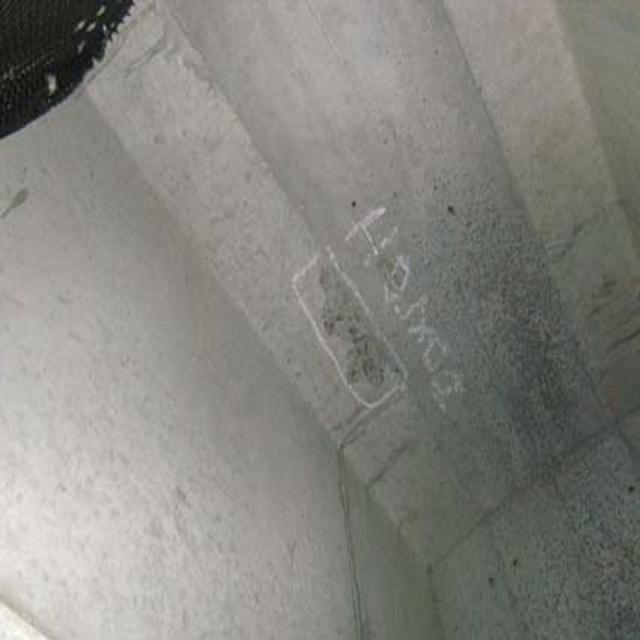spalling: (304, 260, 410, 413)
